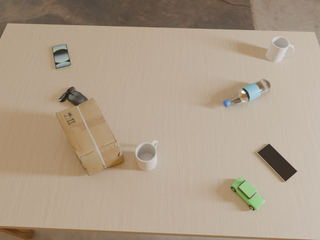bottle: (223, 79, 271, 107)
box: (56, 98, 124, 175)
cup: (266, 37, 294, 62), (136, 140, 157, 171)
mouse: (59, 87, 88, 106)
phone: (257, 144, 297, 182), (52, 44, 71, 70)
toy_car: (231, 177, 265, 210)
